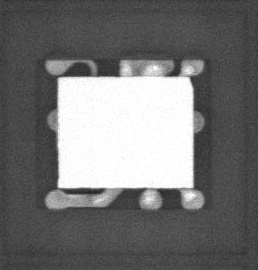DIE_INK: (190, 75, 194, 85)
